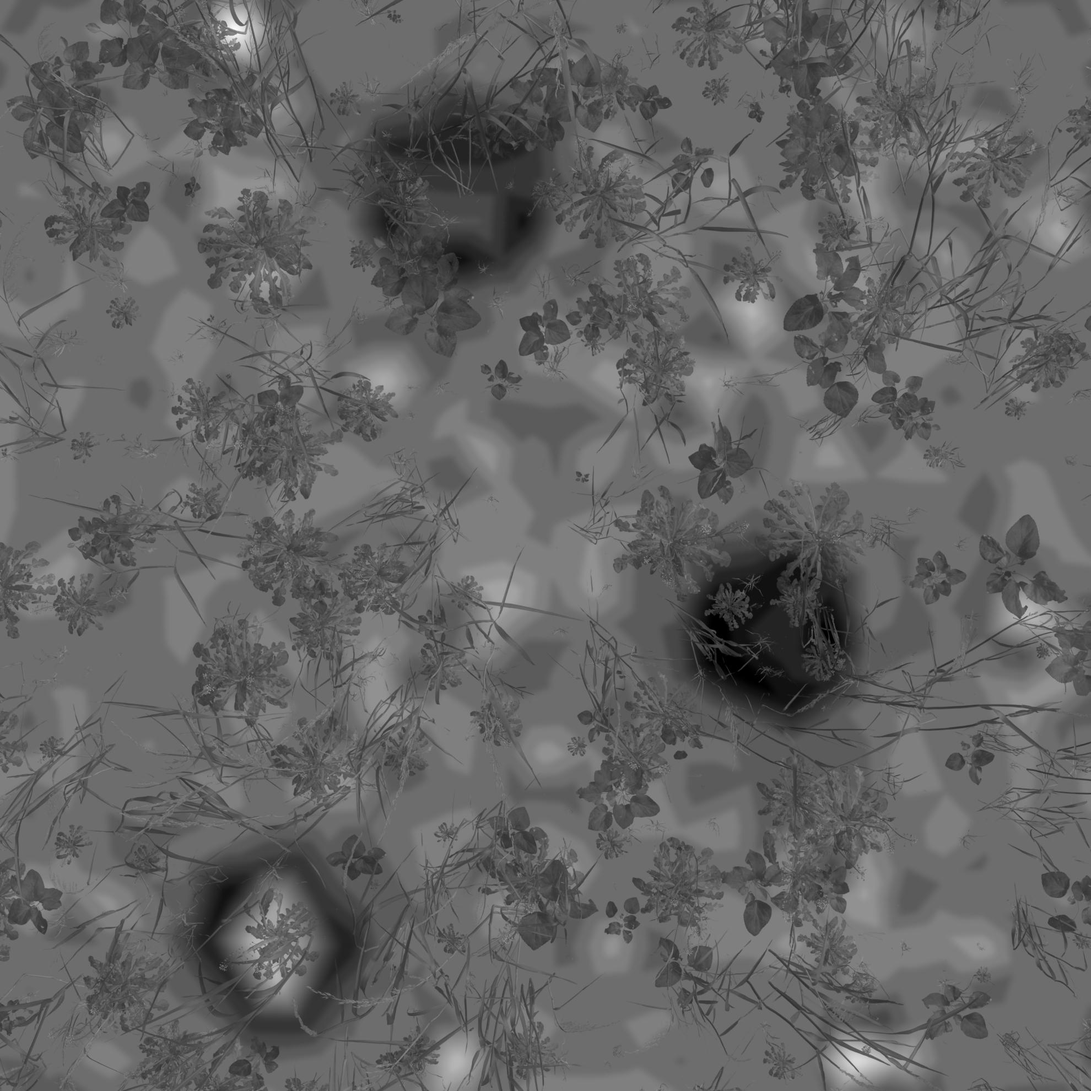landmine: (359, 116, 534, 281), (197, 855, 353, 1019), (711, 560, 844, 696)
